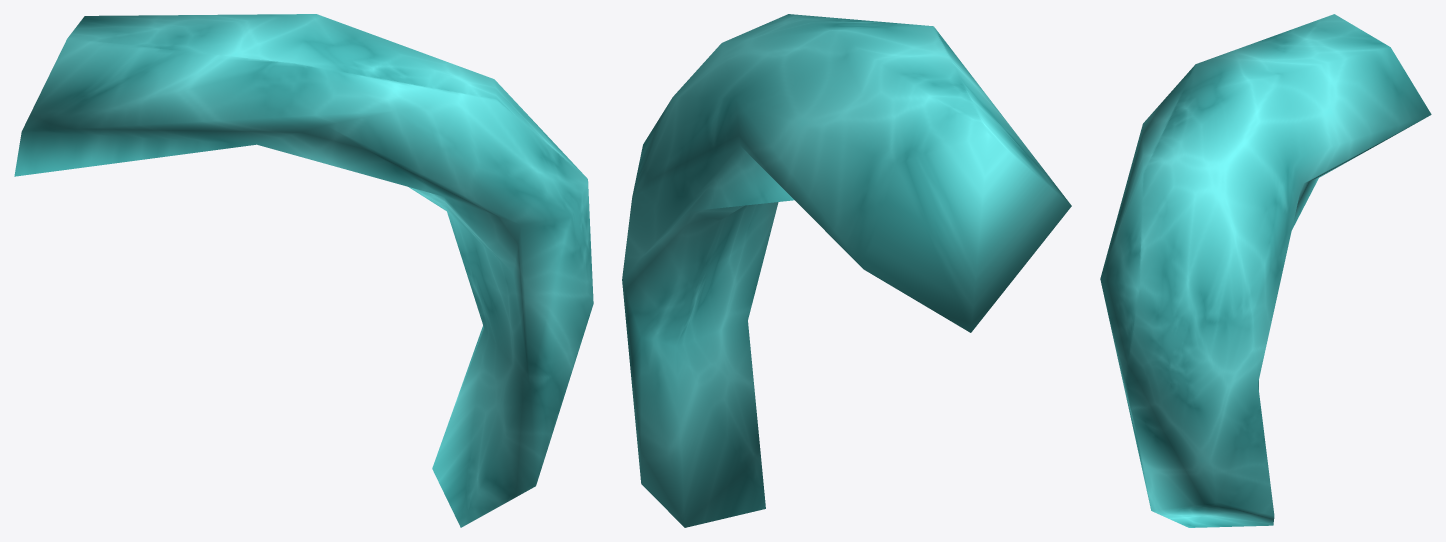
Rendered from WaterstoneParticleLP.fbx.
3 renders of one model, left to right at view 1: azimuth 30°, elevation 25°; view 2: azimuth 150°, elevation 25°; view 3: azimuth 270°, elevation 25°, orthographic. The views are drawn at different scales.
Visible parts, largest first — view 1: WaterstoneParticle.031; view 2: WaterstoneParticle.031; view 3: WaterstoneParticle.031.
Part boxes in pixels (x1,y1,x2,y2): WaterstoneParticle.031: (14, 14, 593, 527); WaterstoneParticle.031: (622, 14, 1071, 527); WaterstoneParticle.031: (1100, 14, 1431, 527).
Size of the model in its own units: 130 by 130 by 95.97.
